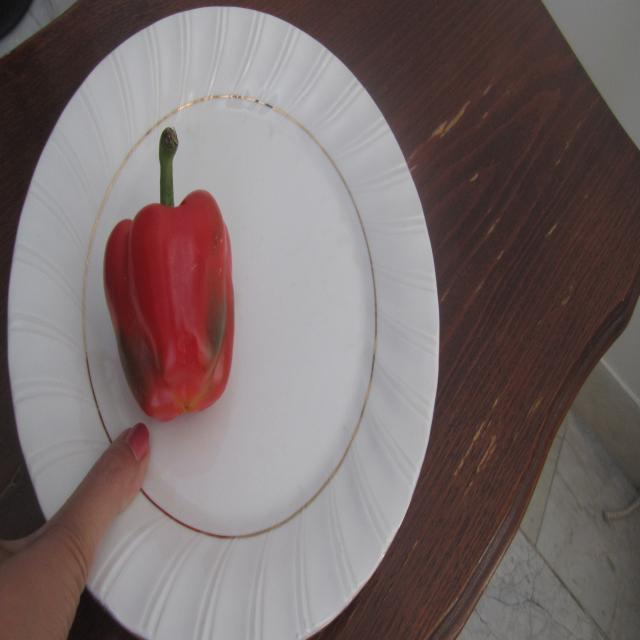Pepper: (102, 125, 235, 422)
